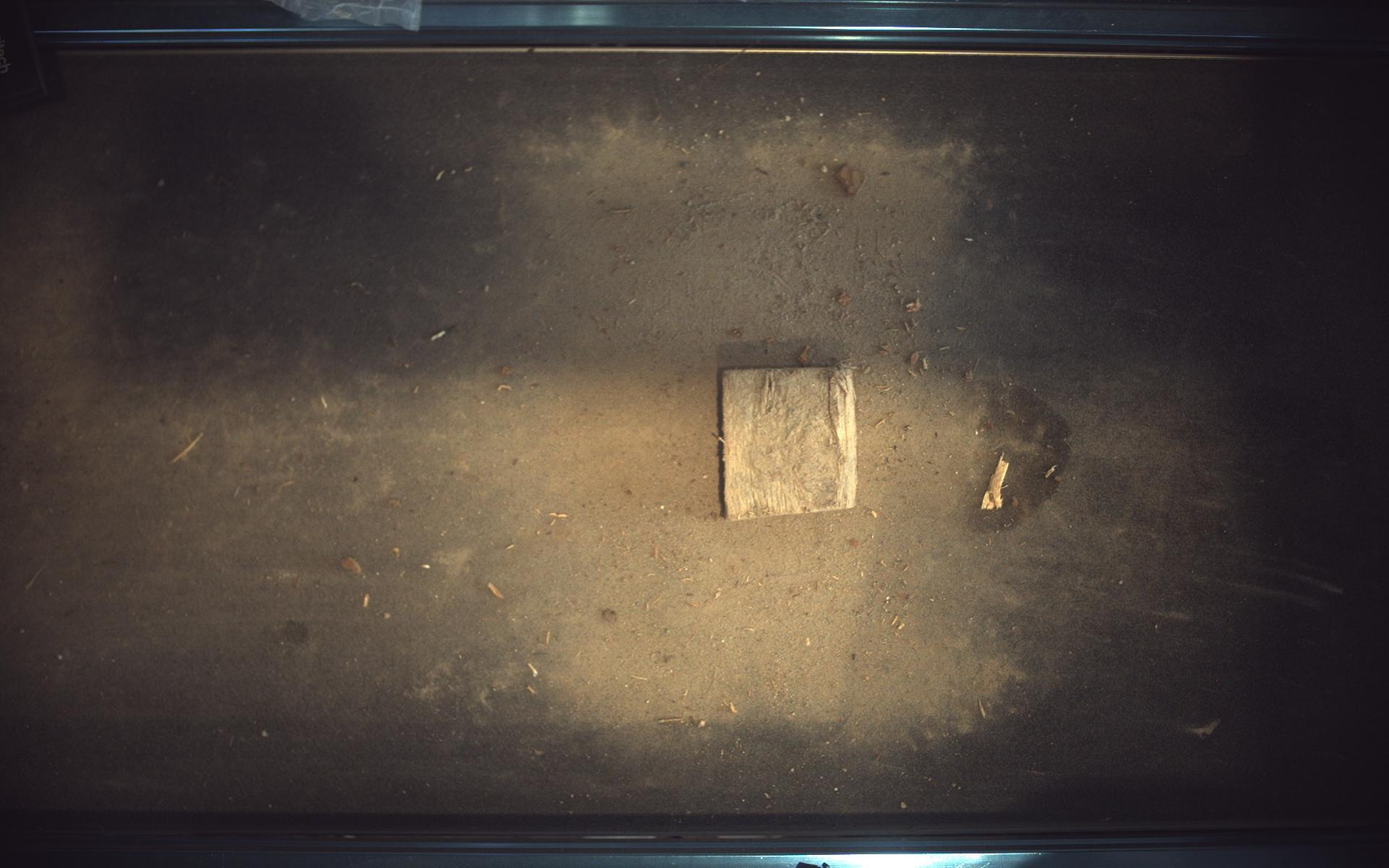wood: (723, 367, 858, 520)
